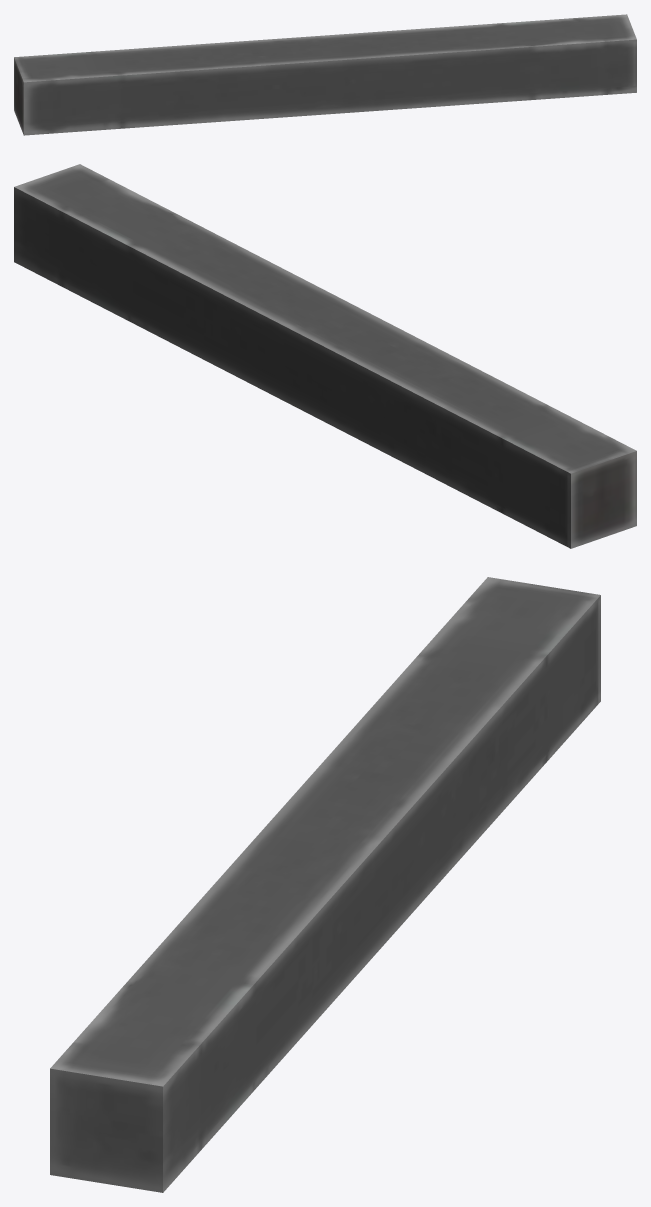
The model's file is frame__incline_ladder_rail.glb.
3 views of the same model, one above another, from view 1: azimuth 30°, elevation 25°; view 2: azimuth 150°, elevation 25°; view 3: azimuth 270°, elevation 25° (orthographic). The views are drawn at different scales.
Visible parts, largest first — view 1: geometry_0; view 2: geometry_0; view 3: geometry_0.
Boxes of the visible parts, x1,y1,x2,y2 form: geometry_0: (14, 14, 636, 135); geometry_0: (14, 164, 636, 548); geometry_0: (50, 577, 600, 1192).
Size of the model in its own units: 0.3493 by 0.034 by 0.1596.
Materials: 1 (1 with a texture image).
